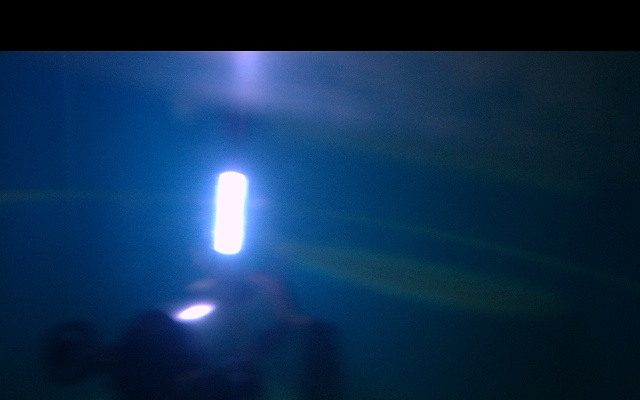white: (212, 170, 248, 256)
